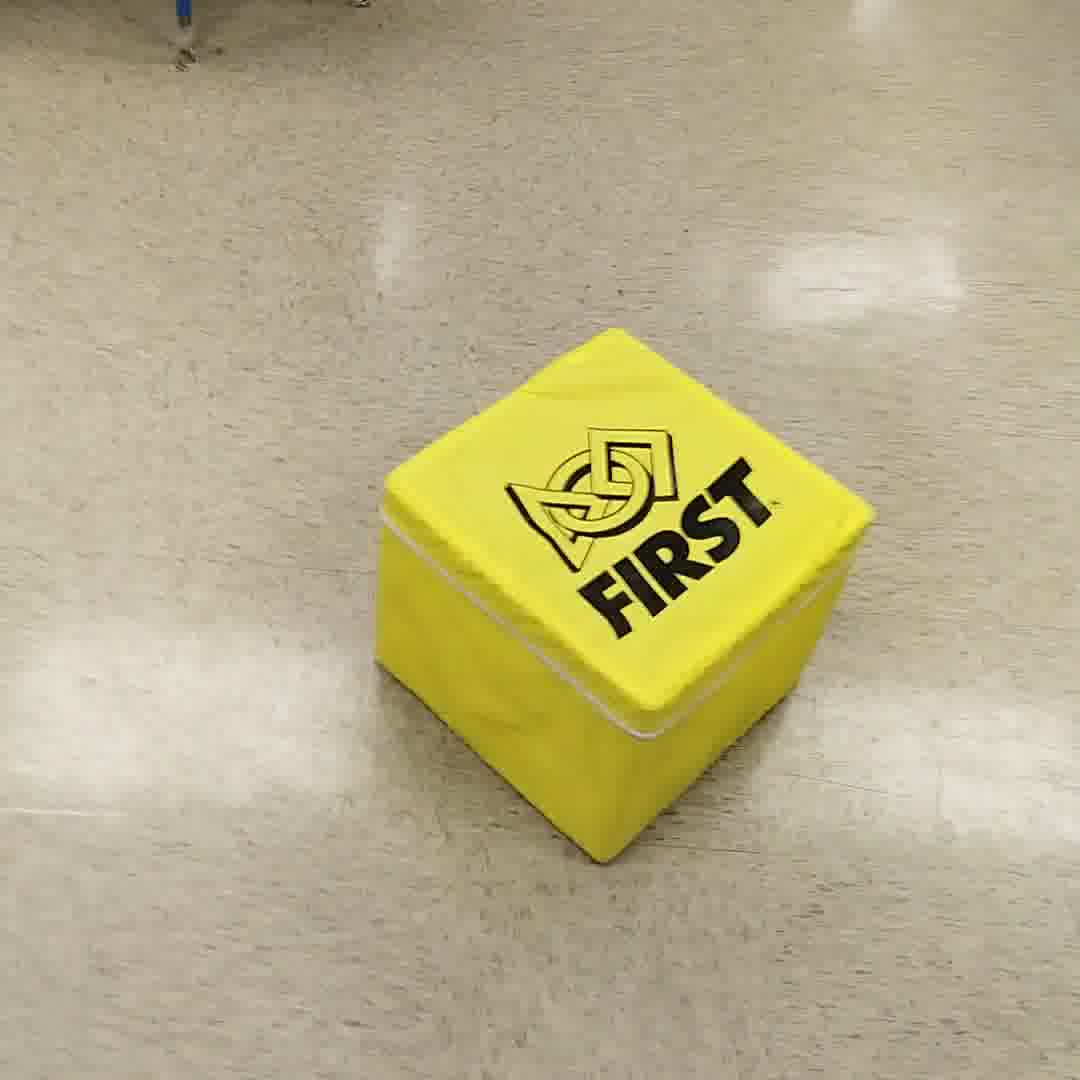box: (361, 328, 872, 877)
